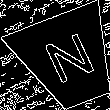N_SE: (37, 29, 99, 91)
